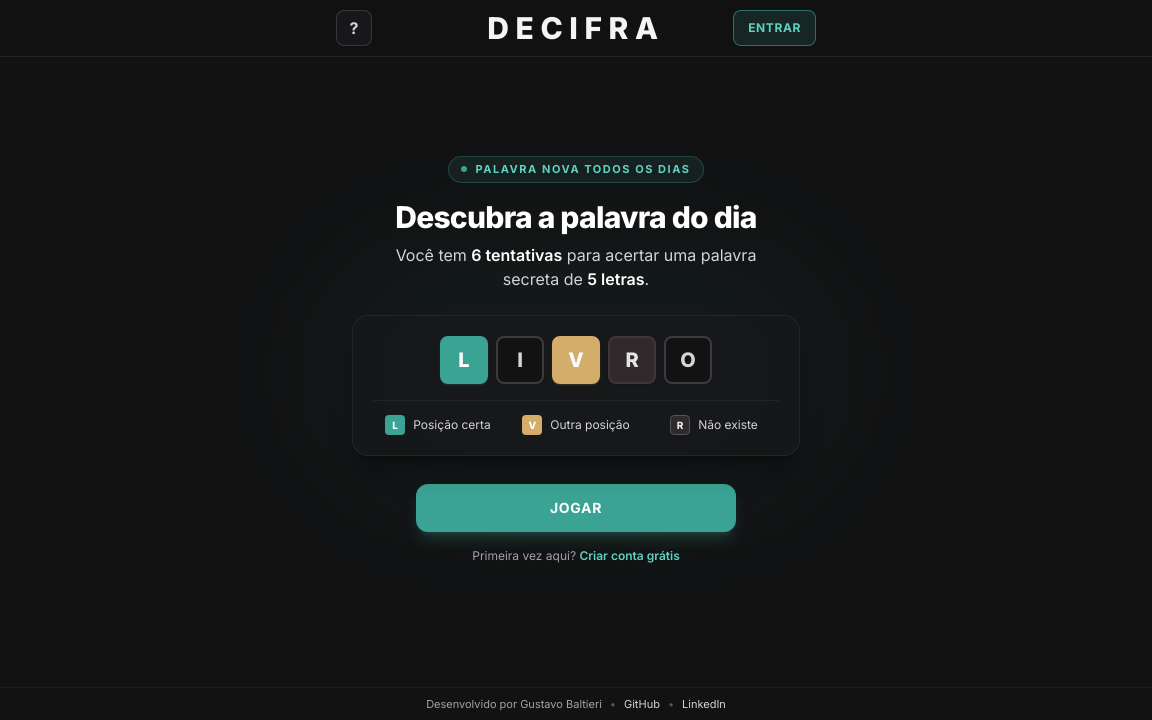
Test: Autenticação (Login, Cadastro e Logout) › exibe toast de erro quando a API retorna 400 no cadastro
Click the button "Jogar" at (576, 508), box [416, 484, 736, 532]
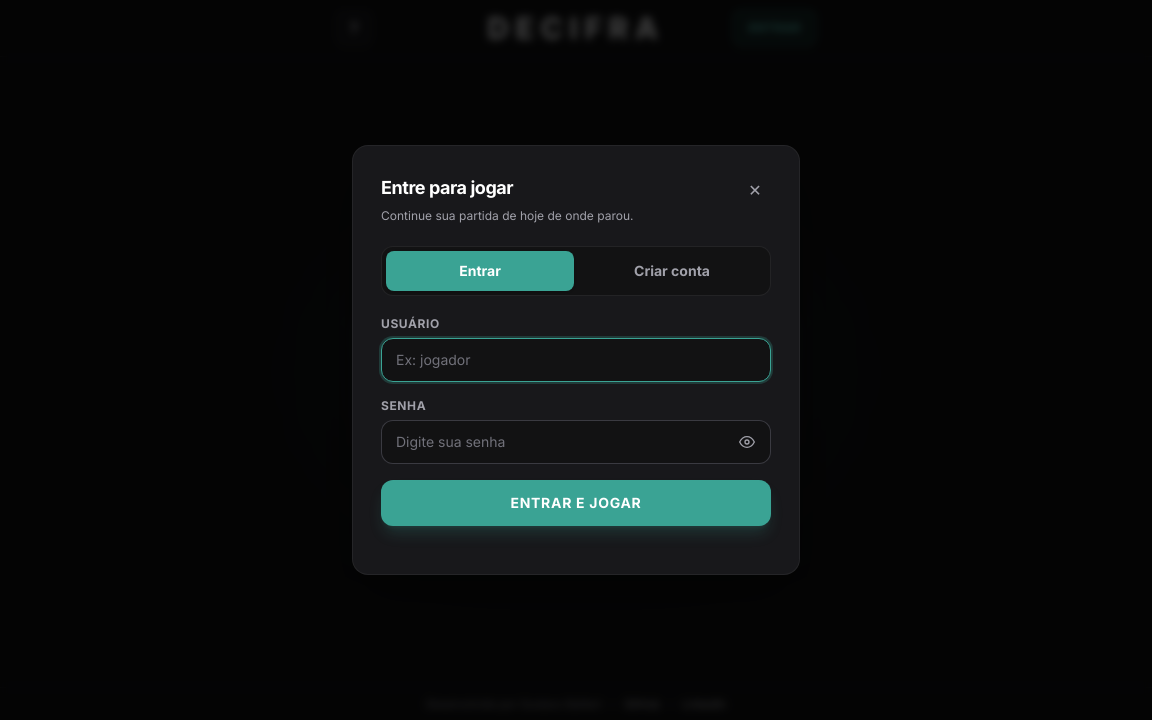
Click the button "Criar conta" at (672, 271), box [578, 251, 766, 291]
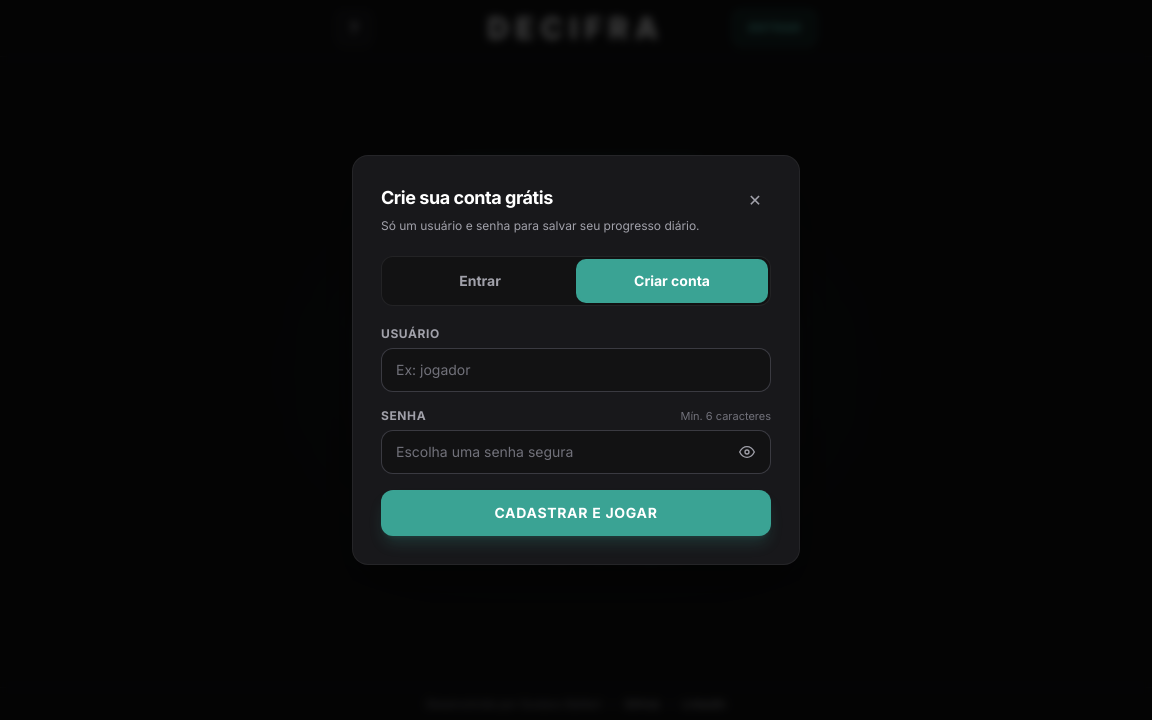
Type "jogador" into the field labelled "Usuário" at (576, 370), box [381, 348, 771, 392]
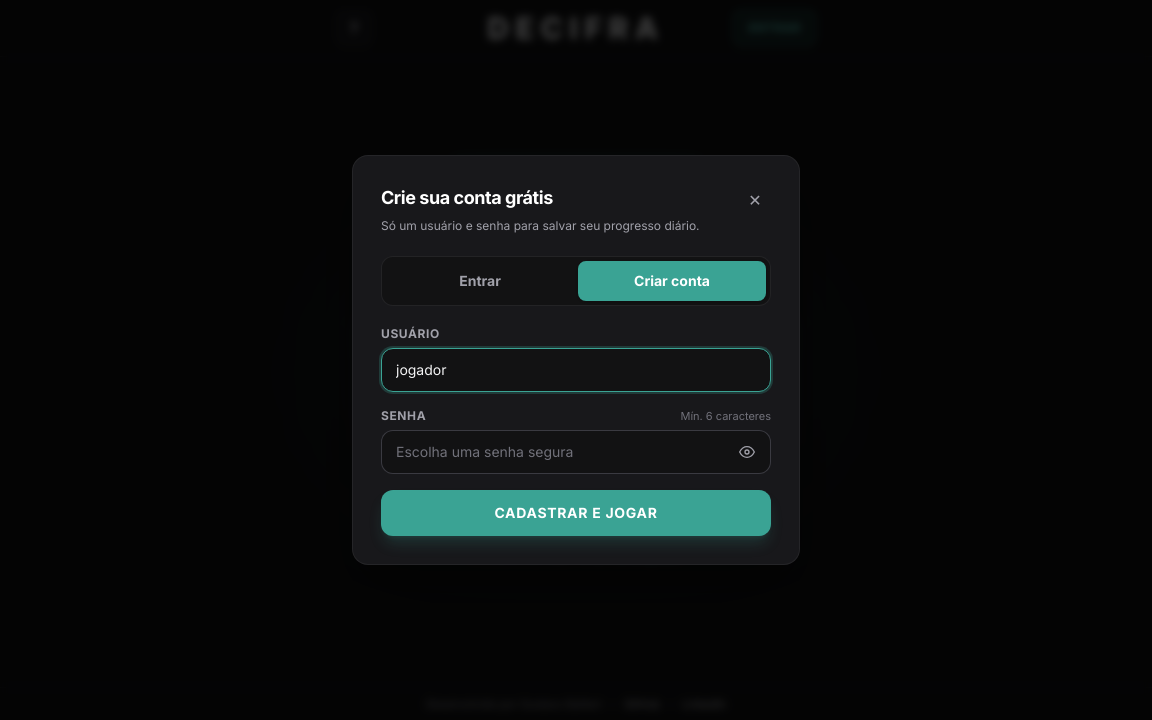
Type "123456" into the password field labelled "Senha" at (576, 452), box [381, 430, 771, 474]
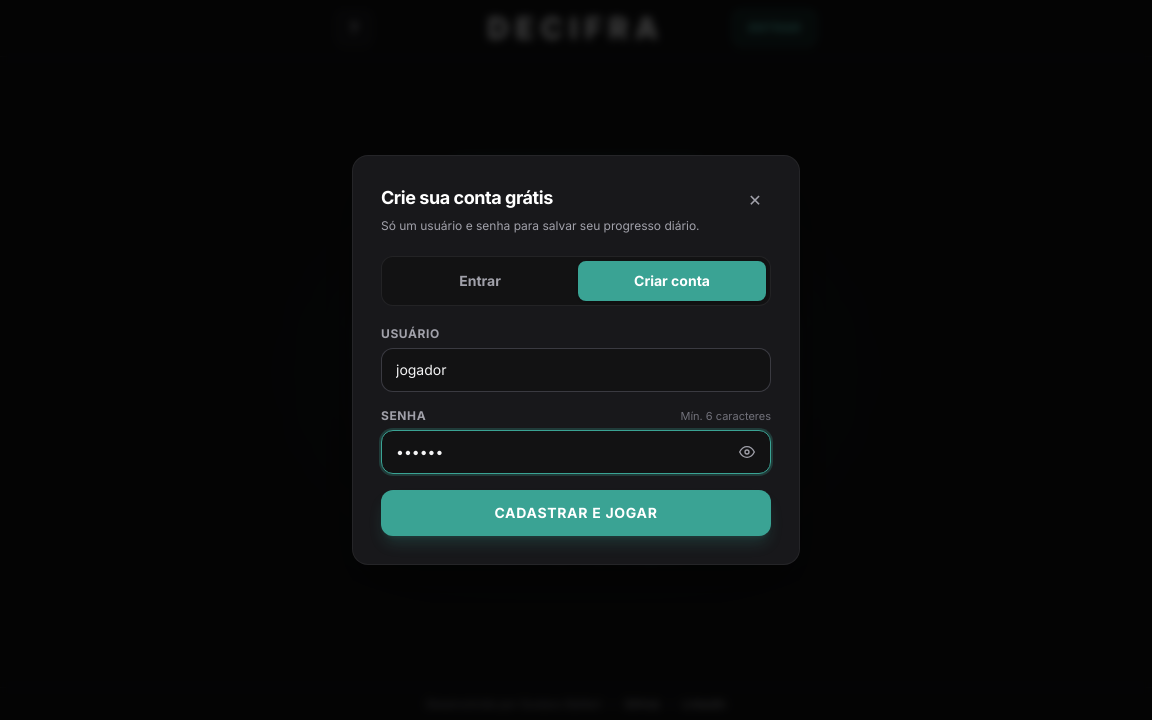
Click the button "Cadastrar e Jogar" at (576, 513), box [381, 490, 771, 536]
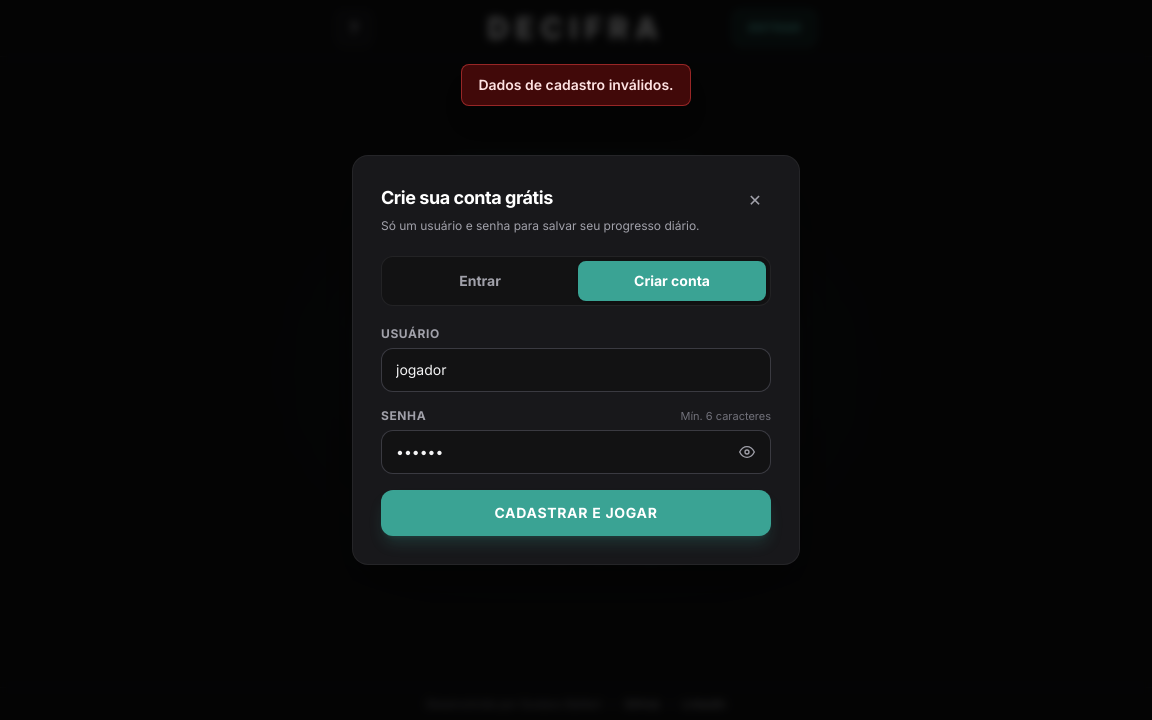
Check: the text "Dados de cadastro inválidos." is shown, box [461, 64, 690, 106]
